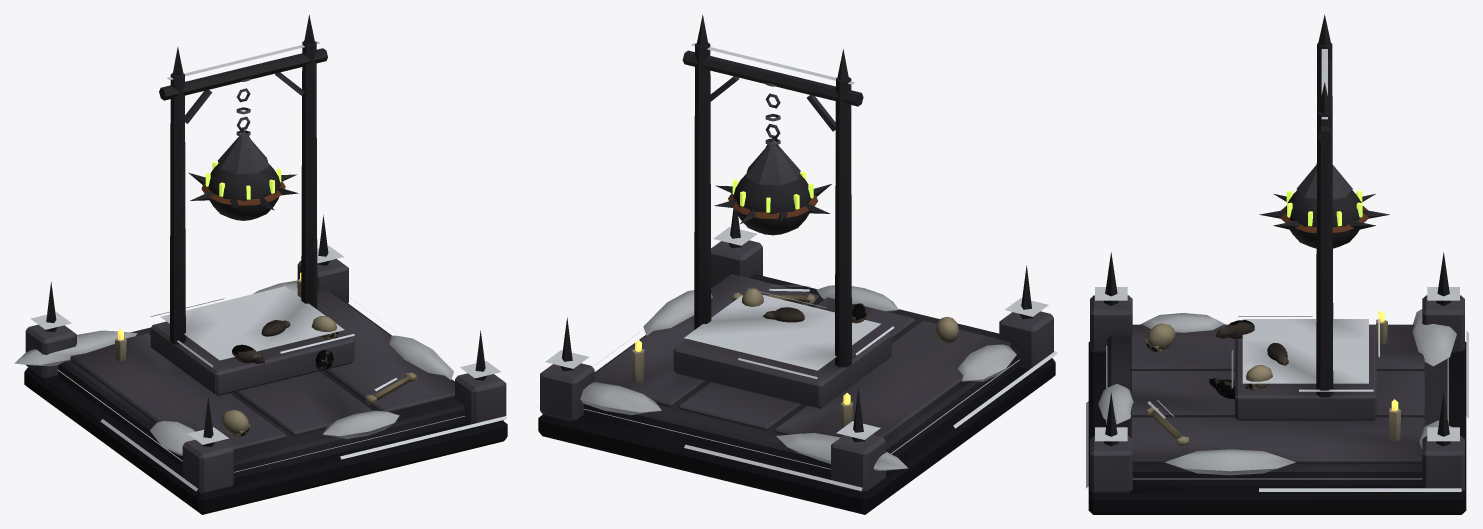
File: ombres-3.glb
3 views of the same model, side by side, from view 1: azimuth 30°, elevation 25°; view 2: azimuth 150°, elevation 25°; view 3: azimuth 270°, elevation 25° (orthographic). The views are drawn at different scales.
Parts seen in each view (by area): view 1: ombres_3_architecture, Orbe_peint; view 2: ombres_3_architecture, Orbe_peint; view 3: ombres_3_architecture, Orbe_peint, ombres_3_rat0, Orbe_lueur.
Boxes of the visible parts, box(x1,y1,x2,y2) form: ombres_3_architecture: box(14, 15, 507, 514); Orbe_peint: box(188, 131, 298, 220); ombres_3_architecture: box(538, 14, 1057, 514); Orbe_peint: box(714, 139, 831, 235); ombres_3_architecture: box(1086, 14, 1468, 514); Orbe_peint: box(1259, 164, 1389, 248); ombres_3_rat0: box(1215, 320, 1254, 338); Orbe_lueur: box(1286, 190, 1362, 226).
Bounding box in the file's own units: 0.8655 × 0.9098 × 0.811.
7 materials, 3 textured.
